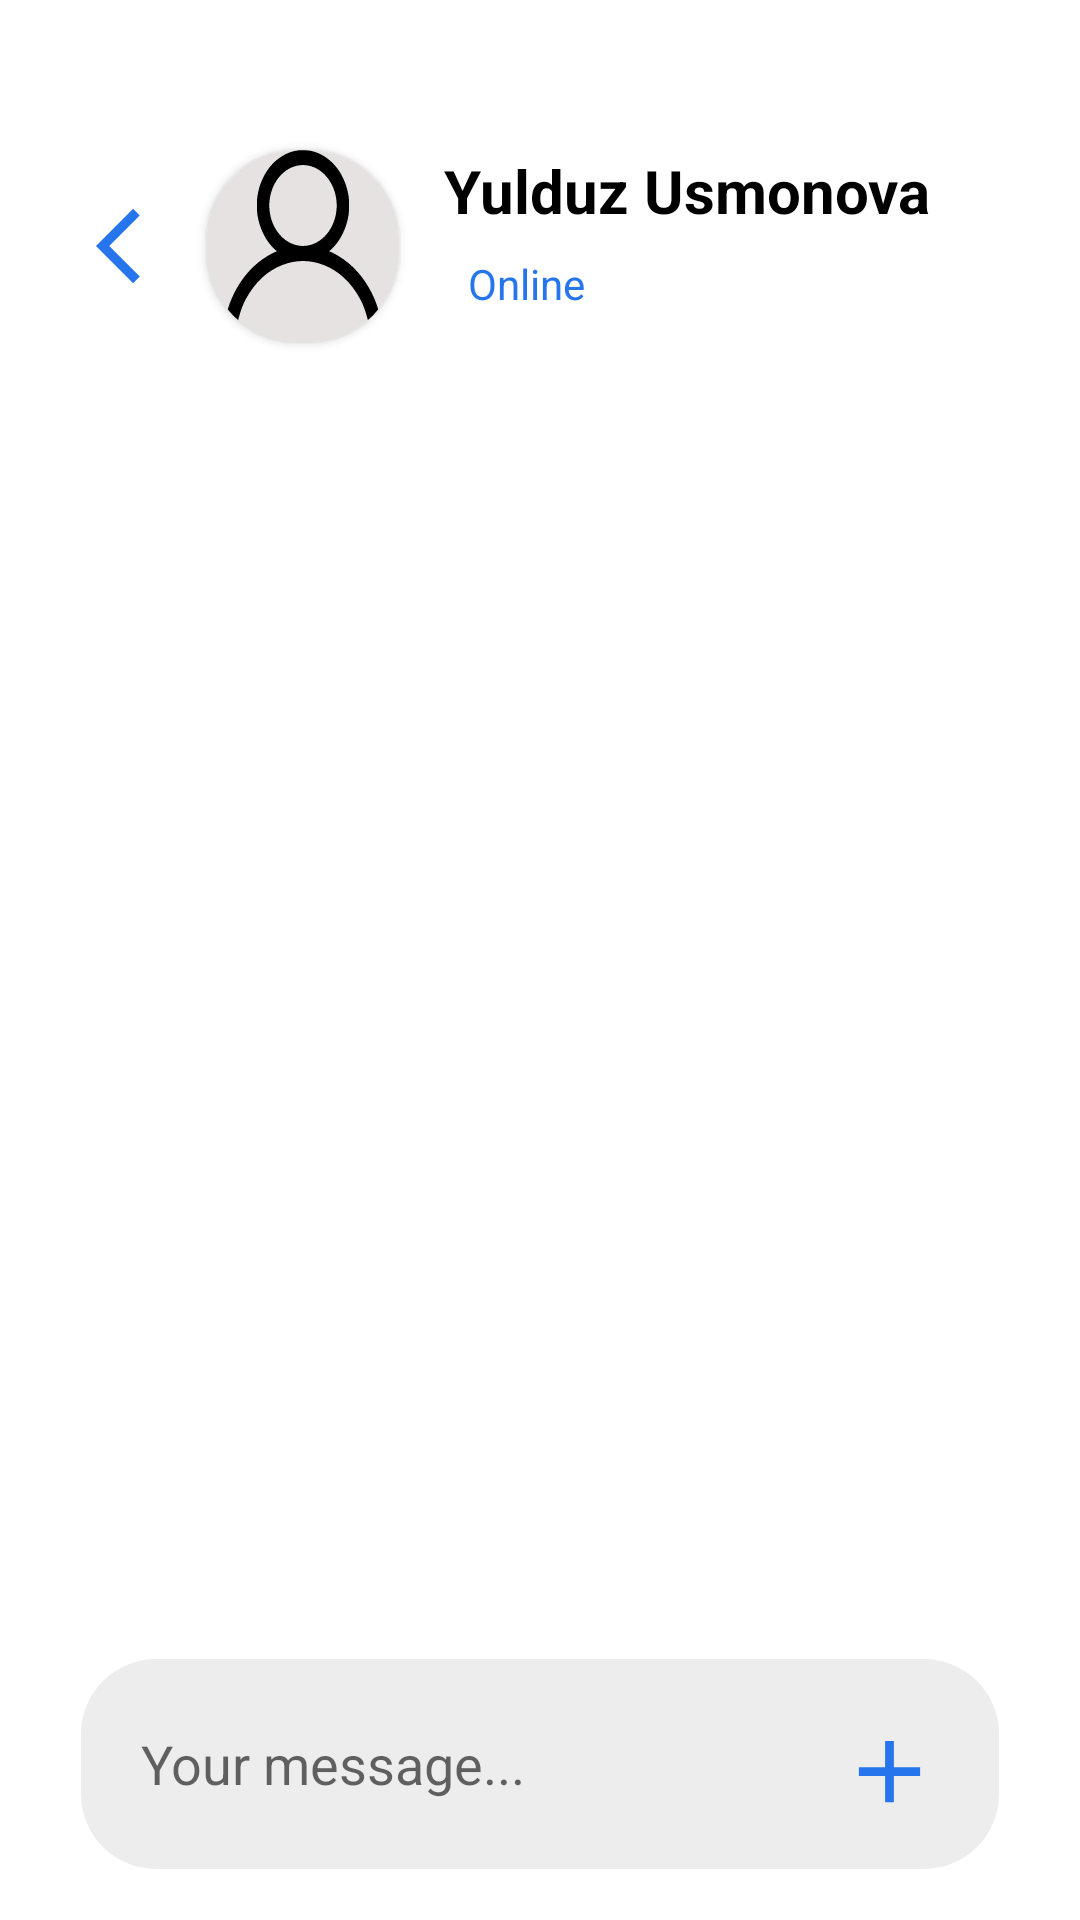

Screen size 1080×1920. Icon name, then its center in pixels as (x=x, y=y):
add: (x=889, y=1772)
arrow back: (x=118, y=246)
user: (x=303, y=246)
